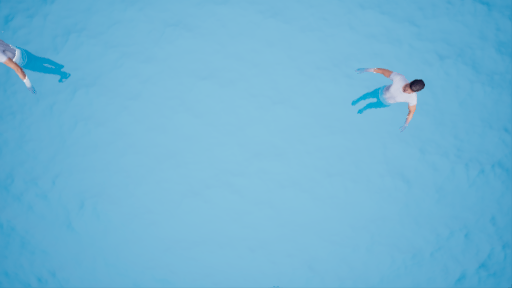person: (350, 64, 425, 138), (1, 34, 73, 93)
